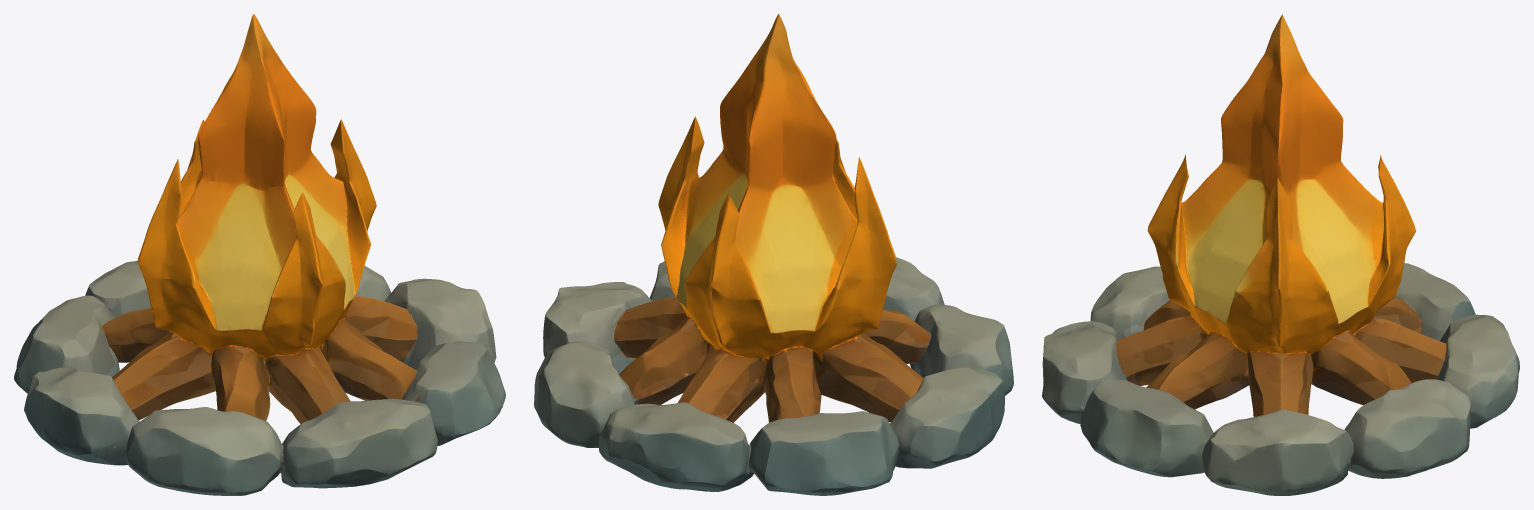
Rendered from base_basic_pbr.fbx.
3 renders of one model, left to right at view 1: azimuth 30°, elevation 25°; view 2: azimuth 150°, elevation 25°; view 3: azimuth 270°, elevation 25°, orthographic. The views are drawn at different scales.
Parts seen in each view (by area): view 1: geometry_0; view 2: geometry_0; view 3: geometry_0.
Boxes of the visible parts, box(x1,y1,x2,y2) form: geometry_0: box(14, 14, 505, 495); geometry_0: box(534, 14, 1013, 495); geometry_0: box(1042, 14, 1519, 495).
Bounding box in the file's own units: 190 × 164 × 186.
1 material, 1 textured.
